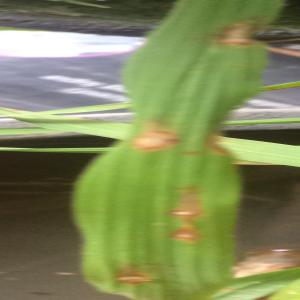Rice_Blast: (88, 238, 168, 295), (120, 110, 187, 162), (153, 180, 215, 225), (212, 16, 265, 60), (161, 222, 206, 251)
